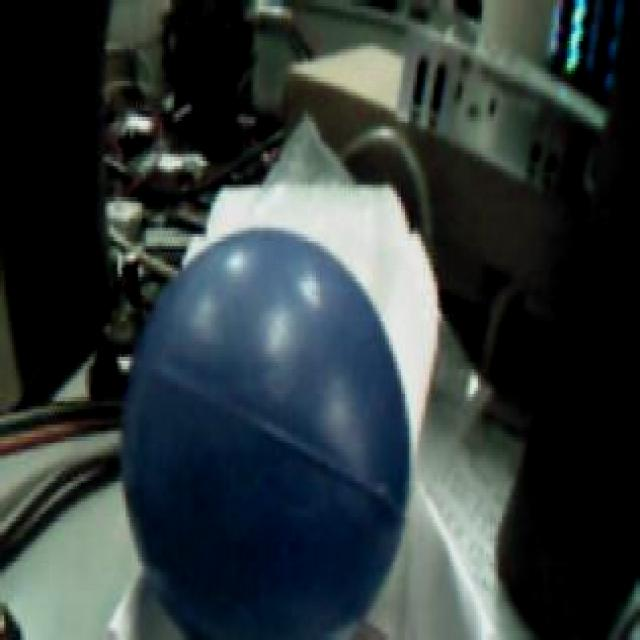BallPurple: (123, 231, 410, 640)
